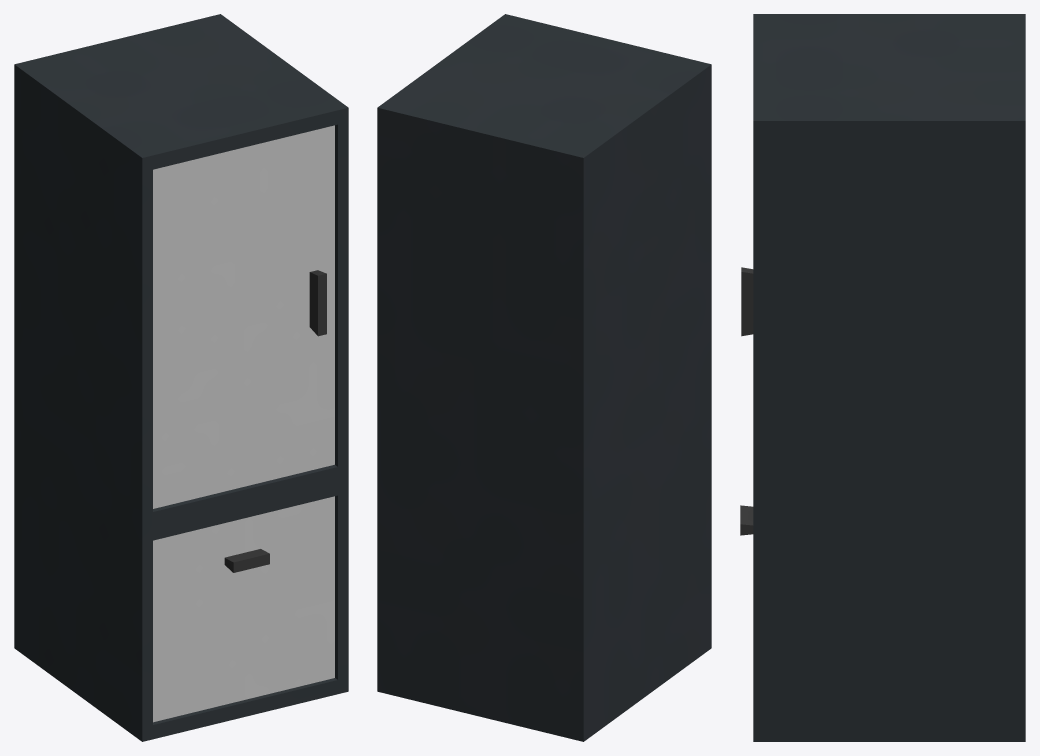
Rendered from Closet_01_02.fbx.
3 renders of one model, left to right at view 1: azimuth 30°, elevation 25°; view 2: azimuth 150°, elevation 25°; view 3: azimuth 270°, elevation 25°, orthographic. The views are drawn at different scales.
Visible parts, largest first — view 1: Closet_01_02, Closet_Door_Upper.001, Closet_Door_Bottom.001; view 2: Closet_01_02; view 3: Closet_01_02, Closet_Door_Upper.001.
Boxes of the visible parts, x1,y1,x2,y2 form: Closet_01_02: (14,14,348,741); Closet_Door_Upper.001: (153,125,334,508); Closet_Door_Bottom.001: (153,496,334,722); Closet_01_02: (377,14,711,741); Closet_01_02: (753,14,1025,741); Closet_Door_Upper.001: (741,267,753,336).
Size of the model in its own units: 0.7189 by 1.94 by 0.8096.
